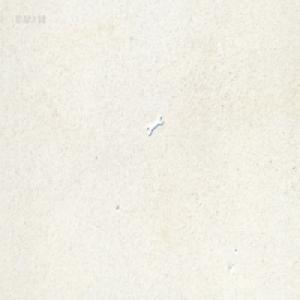Wrench: (145, 114, 163, 135)
